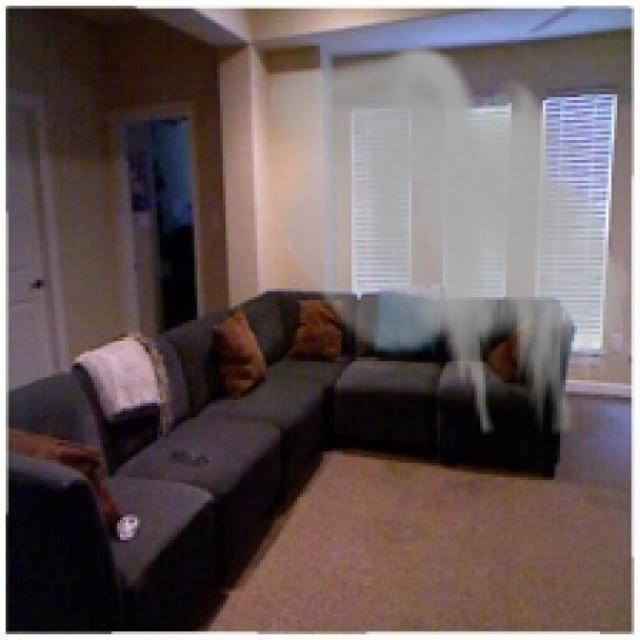Smoke: (266, 46, 634, 434)
